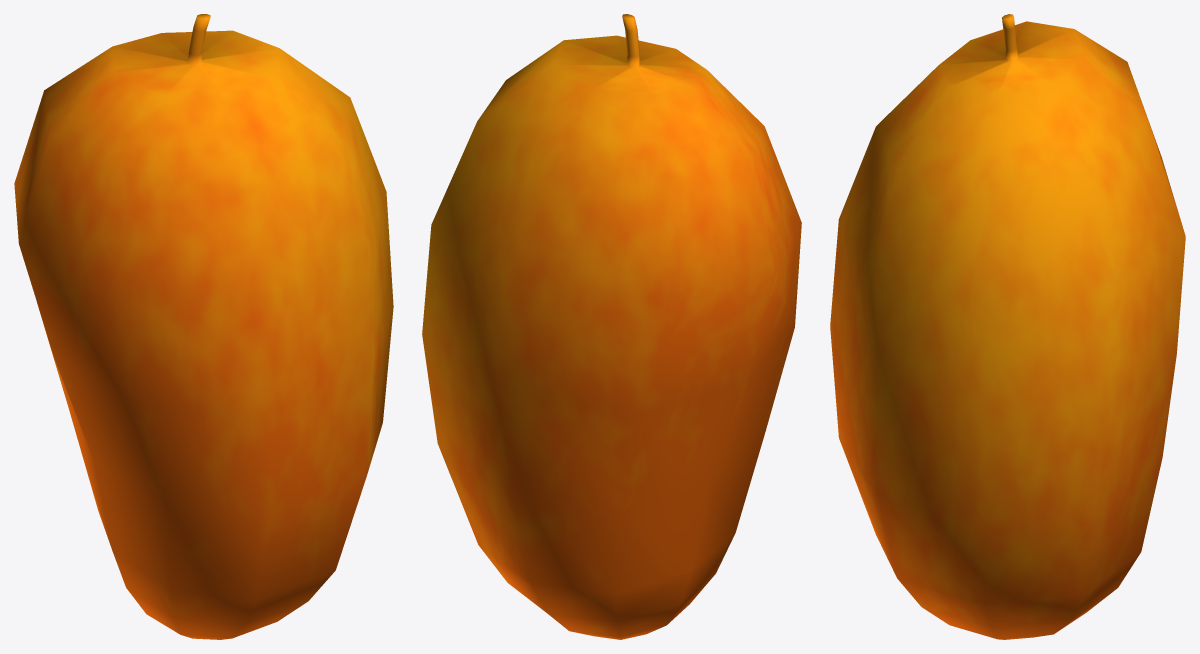
File: mango-new.glb
The picture shows the model from 3 angles, left to right: view 1: azimuth 30°, elevation 25°; view 2: azimuth 150°, elevation 25°; view 3: azimuth 270°, elevation 25°; orthographic projection.
Parts seen in each view (by area): view 1: mango; view 2: mango; view 3: mango.
Boxes of the visible parts, x1,y1,x2,y2 form: mango: (14, 14, 393, 639); mango: (422, 14, 801, 639); mango: (830, 14, 1185, 639).
Bounding box in the file's own units: 0.2791 × 0.4792 × 0.2534.
Materials: 1 (1 with a texture image).
